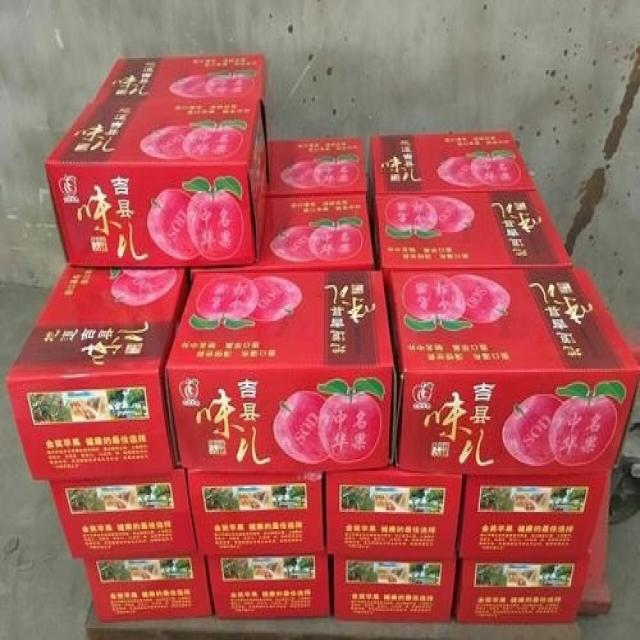box: (382, 269, 639, 475), (166, 270, 397, 469), (4, 265, 196, 483), (45, 99, 270, 265), (366, 189, 575, 271), (191, 194, 375, 271), (50, 464, 200, 558), (322, 461, 462, 559), (454, 473, 607, 561), (185, 465, 325, 556), (366, 130, 538, 194), (452, 559, 591, 623), (82, 556, 216, 622), (92, 53, 266, 103), (329, 555, 455, 622), (204, 554, 330, 618), (266, 138, 367, 197)
